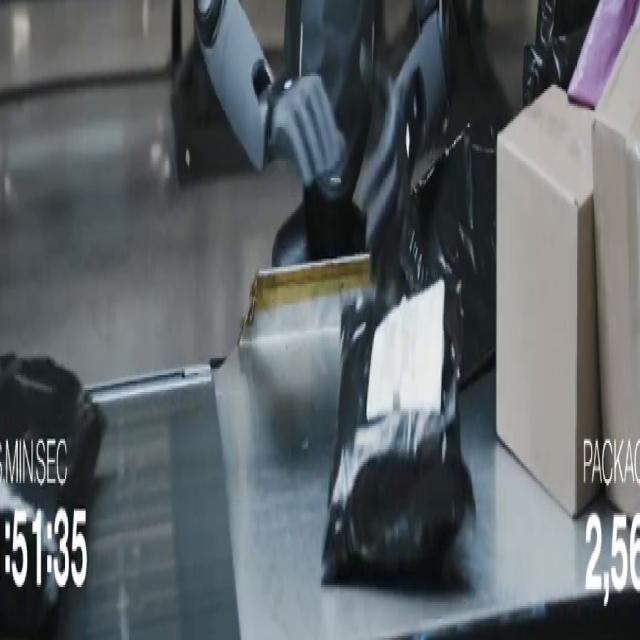package: (322, 280, 474, 582), (497, 87, 600, 517), (0, 354, 105, 637), (401, 121, 501, 387), (594, 28, 639, 514), (523, 0, 598, 105), (569, 0, 639, 108), (523, 24, 588, 105), (535, 0, 599, 46)
